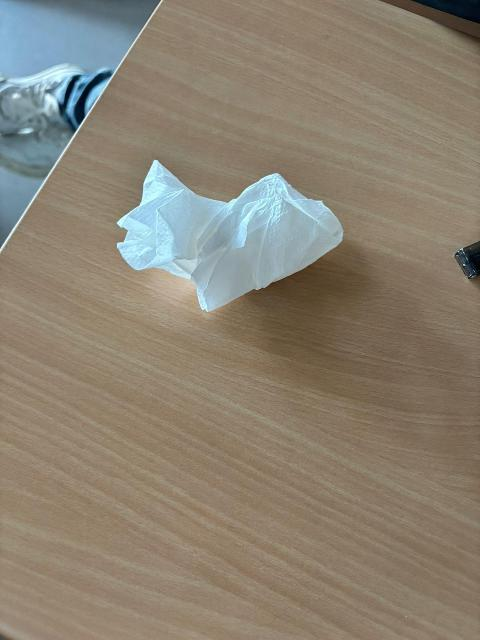Kagit: (122, 156, 345, 314)
